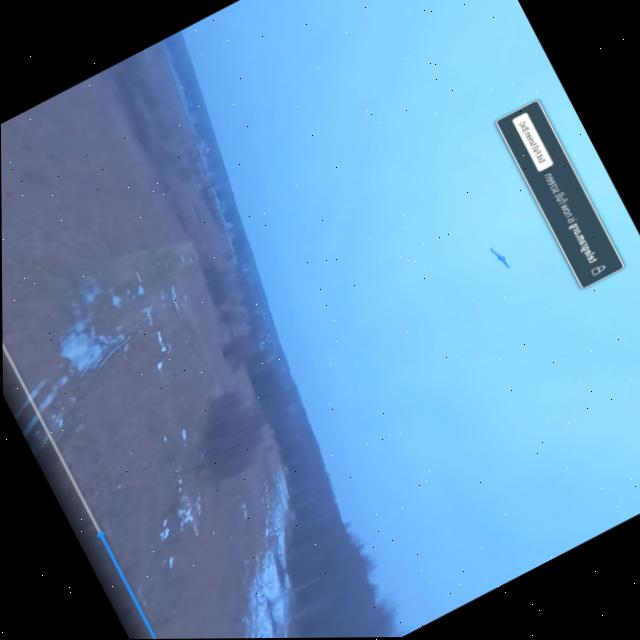planedrone: (484, 240, 514, 275)
